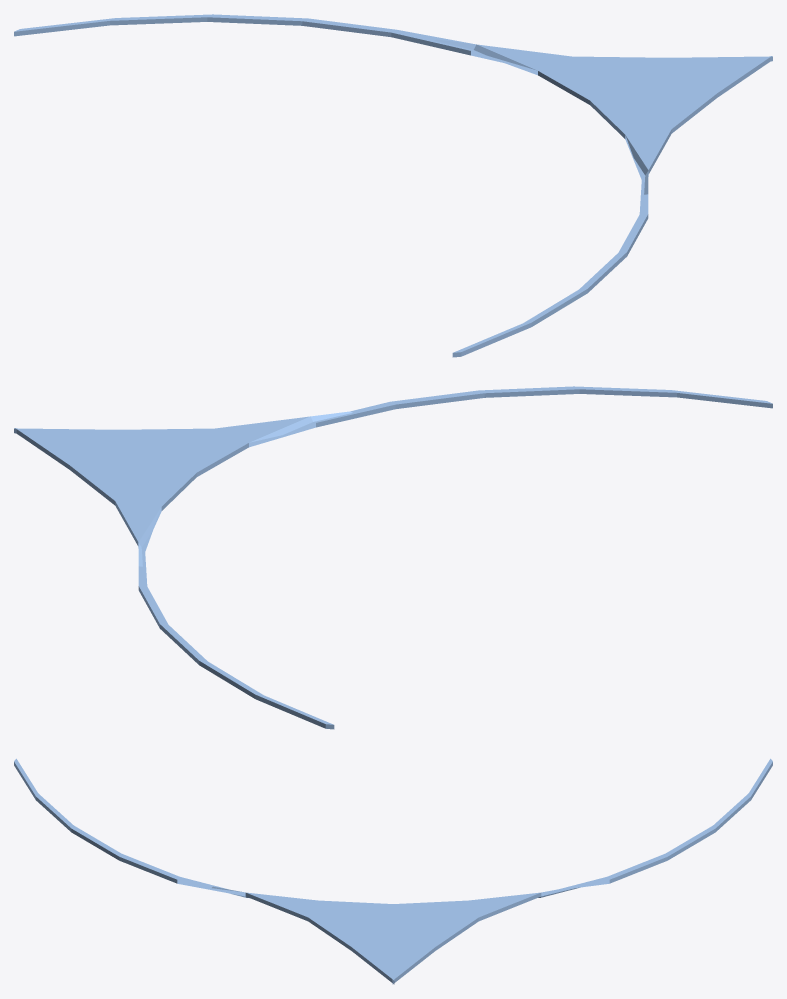
File: frecciasolida.fbx
3 views of the same model, one above another, from view 1: azimuth 30°, elevation 25°; view 2: azimuth 150°, elevation 25°; view 3: azimuth 270°, elevation 25° (orthographic). The views are drawn at different scales.
Visible parts, largest first — view 1: Circle; view 2: Circle; view 3: Circle.
Boxes of the visible parts, x1=… form: Circle: x1=14, y1=14, x2=772, y2=357; Circle: x1=14, y1=386, x2=772, y2=729; Circle: x1=14, y1=758, x2=772, y2=984.
Bounding box in the file's own units: 122 × 2 × 172.
